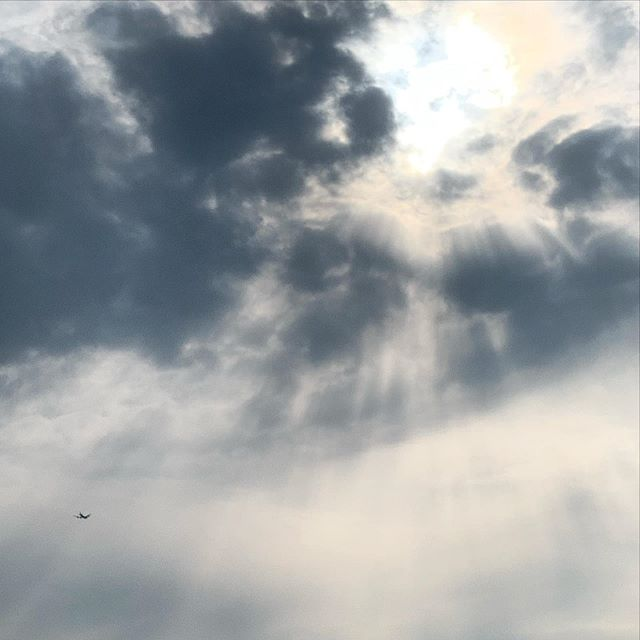sky: (1, 1, 636, 636)
